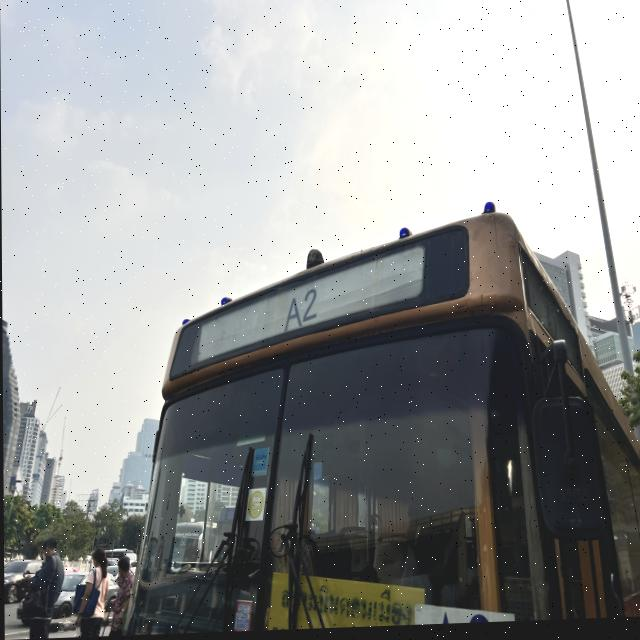BMTA-bus: (116, 186, 640, 637)
Bus Line Number: (280, 287, 321, 333)
Destination Sign: (269, 572, 422, 632)
